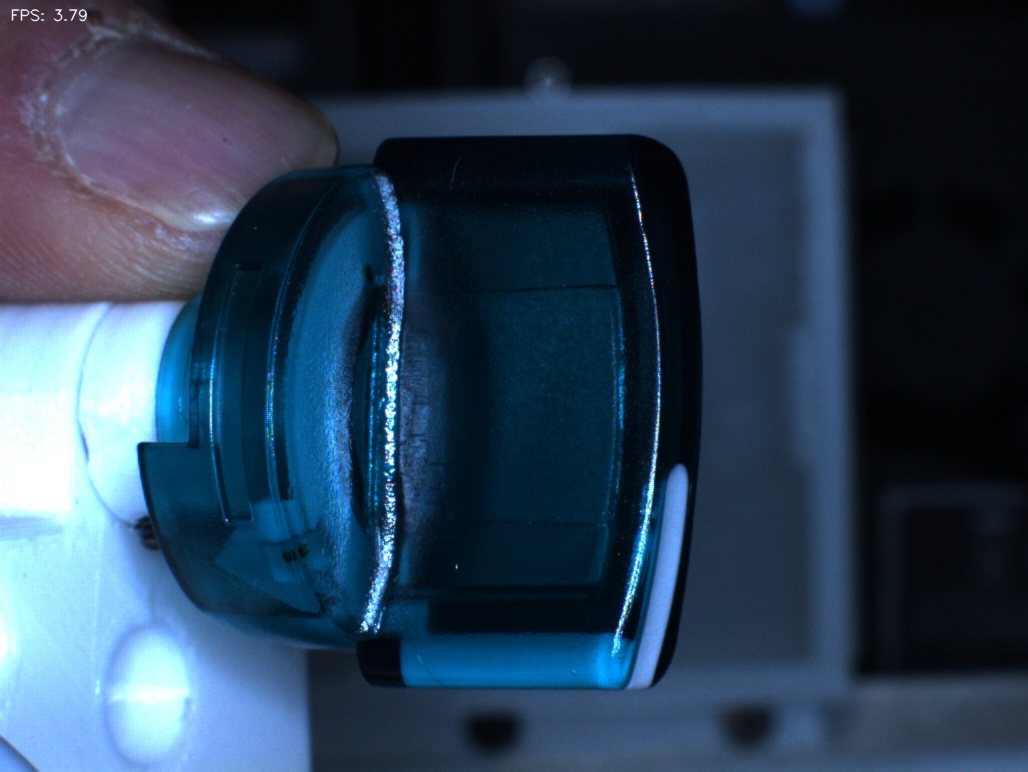PointNoir: (330, 230, 401, 308)
